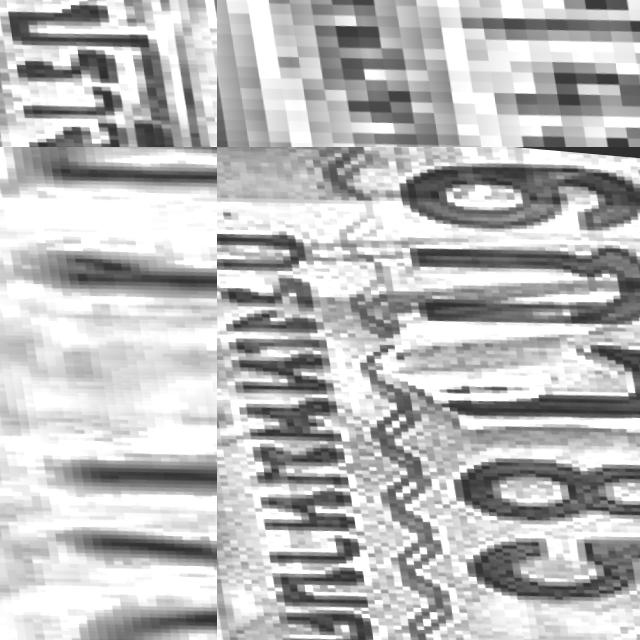license-plate: (217, 147, 640, 640), (0, 147, 217, 640), (217, 0, 640, 147), (0, 0, 217, 147)
